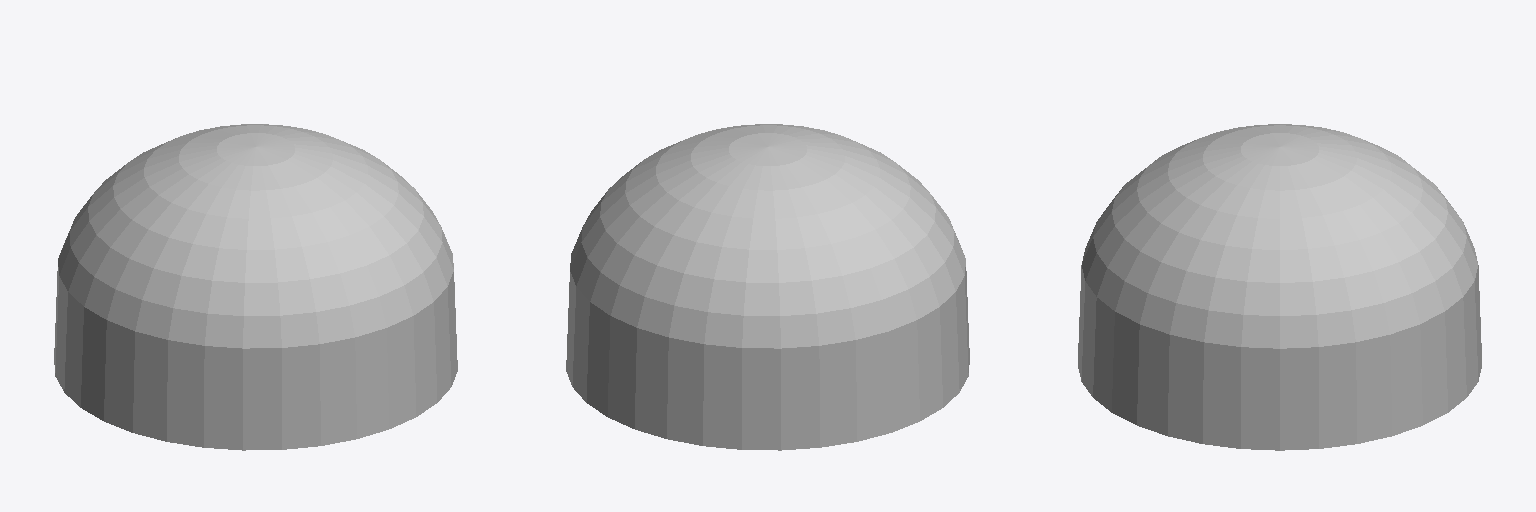
Rendered from PieceRonde5X5X2977.obj.
3 views of the same model, side by side, from view 1: azimuth 30°, elevation 25°; view 2: azimuth 150°, elevation 25°; view 3: azimuth 270°, elevation 25° (orthographic).
Parts seen in each view (by area): view 1: Sphere; view 2: Sphere; view 3: Sphere.
Part boxes in pixels (x1,y1,x2,y2): Sphere: (54, 124, 457, 450); Sphere: (566, 124, 969, 450); Sphere: (1078, 124, 1481, 450).
Size of the model in its own units: 5 by 2.98 by 5.